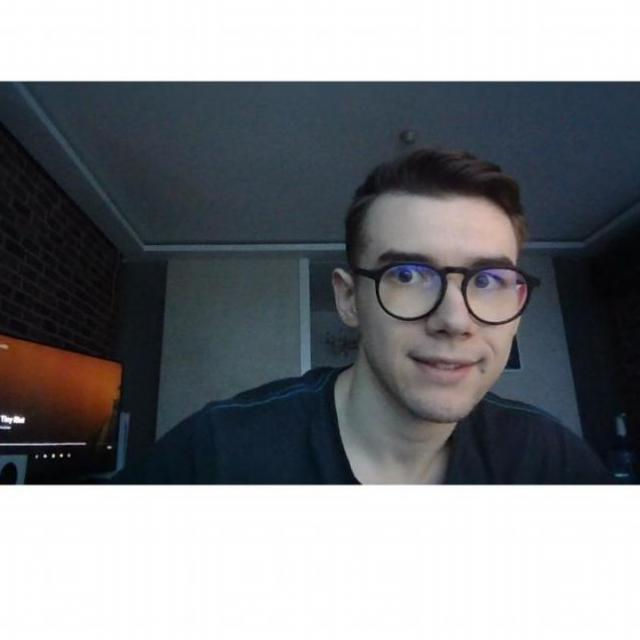live: (344, 164, 526, 420)
